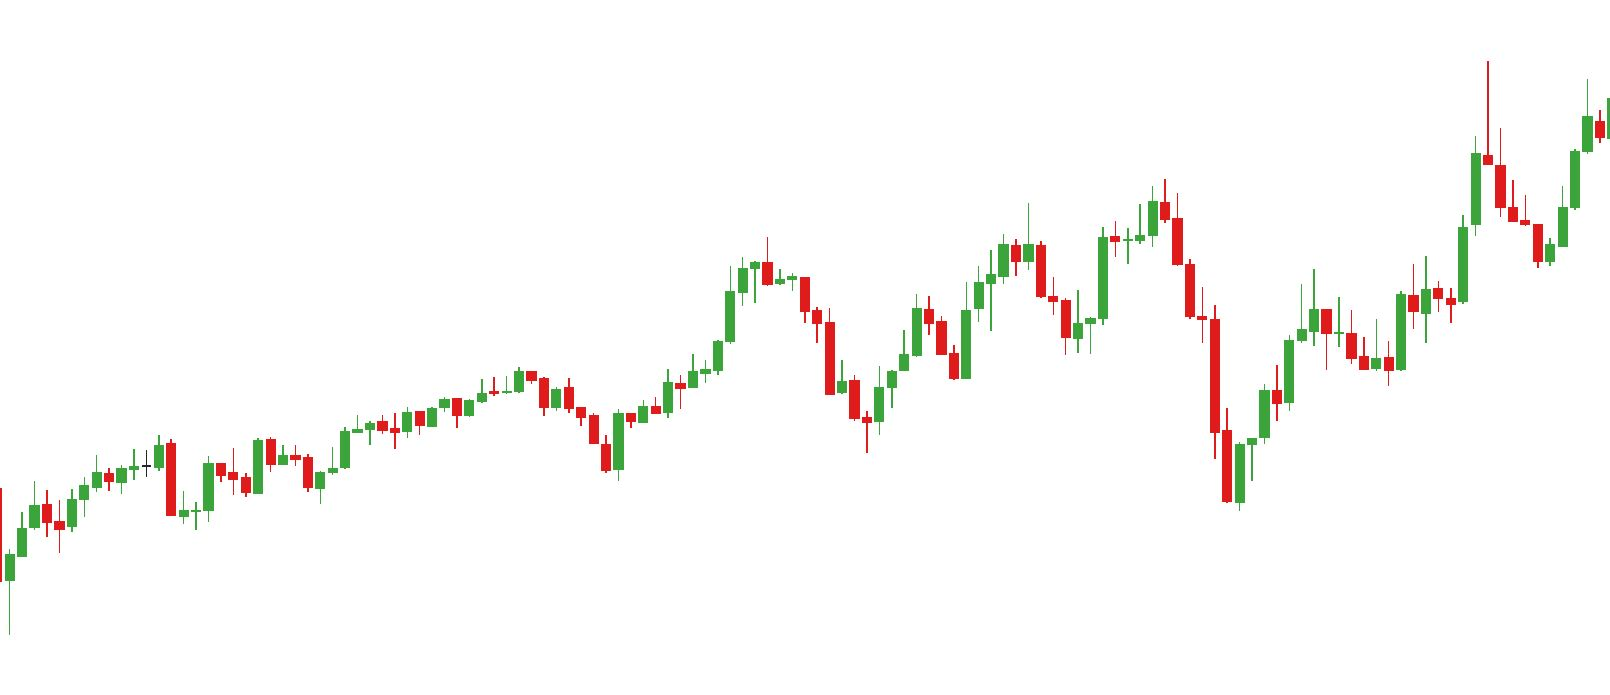buy: (386, 401, 628, 482), (986, 257, 1085, 358), (75, 463, 190, 536), (228, 448, 328, 506)
